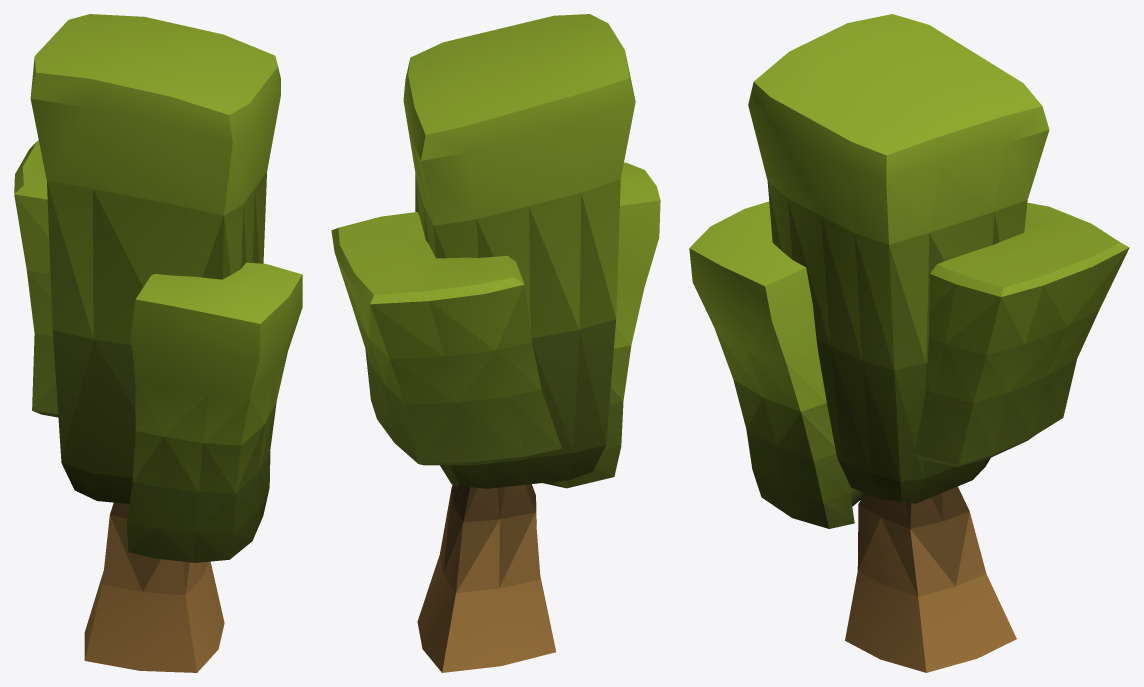
Rendered from angular_tree_block__summer.glb.
3 views of the same model, side by side, from view 1: azimuth 30°, elevation 25°; view 2: azimuth 150°, elevation 25°; view 3: azimuth 270°, elevation 25° (orthographic). The views are drawn at different scales.
Size of the model in its own units: 2.14 by 4.8 by 3.36.
